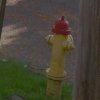Hydrant: (34, 9, 76, 100)
